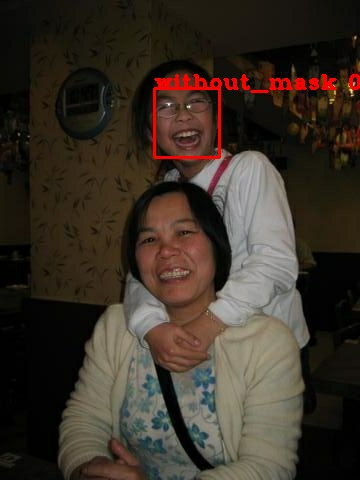without_mask: (124, 190, 230, 303), (139, 70, 223, 162)
